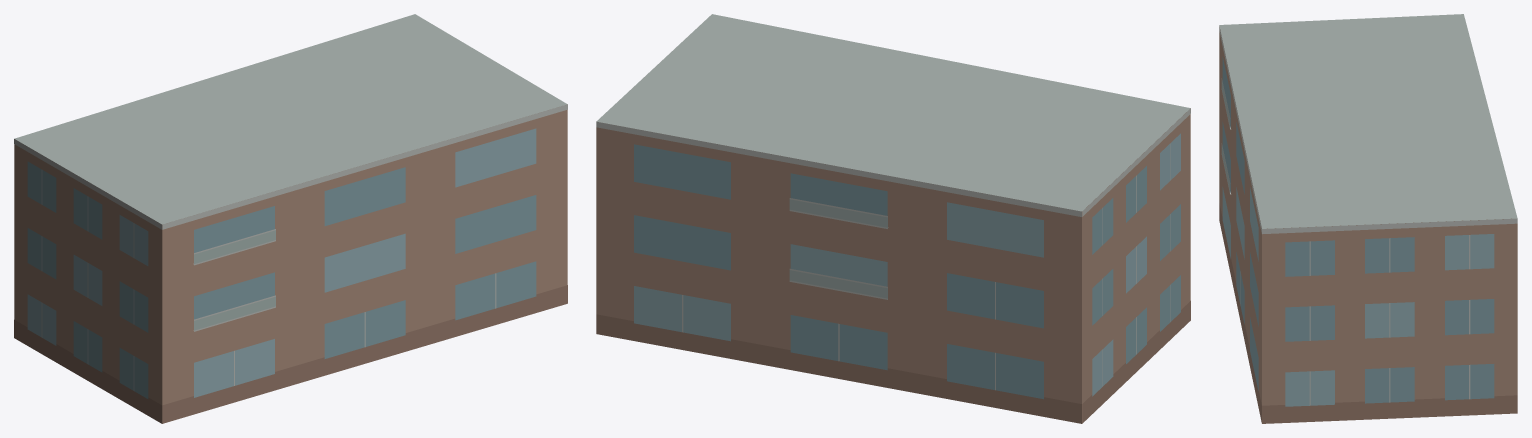
Rendered from survey-upis-32627962.glb.
The picture shows the model from 3 angles, left to right: view 1: azimuth 30°, elevation 25°; view 2: azimuth 150°, elevation 25°; view 3: azimuth 270°, elevation 25°; orthographic projection. The views are drawn at different scales.
Visible parts, largest first — view 1: survey-upis-32627962.tmp; view 2: survey-upis-32627962.tmp; view 3: survey-upis-32627962.tmp.
Boxes of the visible parts, bbox=[...] form: survey-upis-32627962.tmp: bbox=[14, 14, 567, 423]; survey-upis-32627962.tmp: bbox=[596, 14, 1190, 423]; survey-upis-32627962.tmp: bbox=[1219, 14, 1517, 423].
Bounding box in the file's own units: 21.65 × 9.15 × 12.7.
